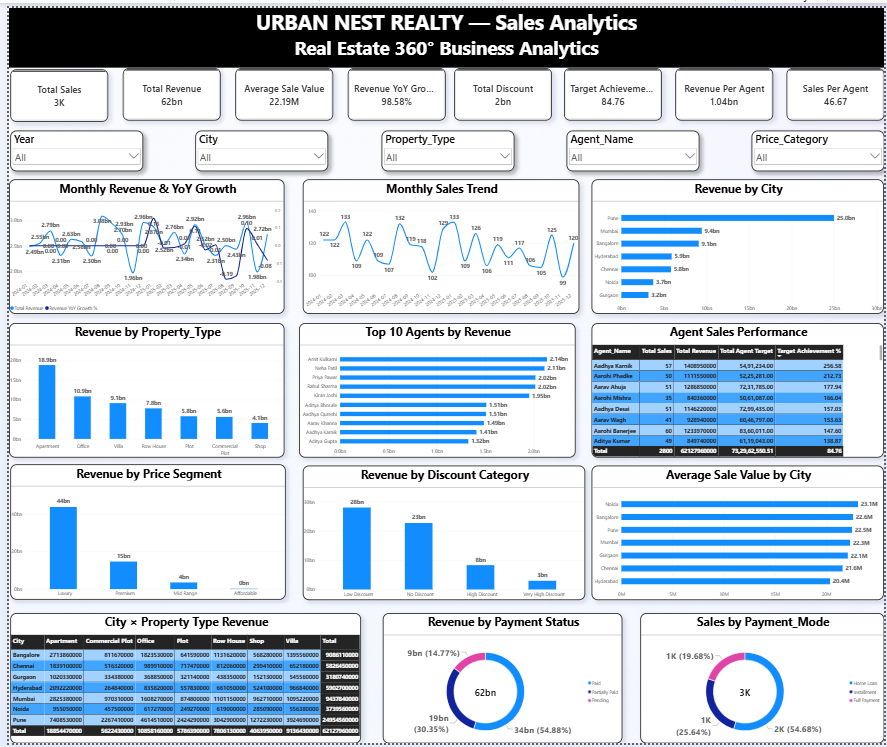

The page's visual inventory and layout, read from the dashboard file:
{"tool":"powerbi","page":{"name":"Sales_Analytics","canvas":[2500,2100],"ordinal":2},"visuals":[{"type":"cardVisual","fields":{"Data":["_Sales_Measures.Total Sales"]},"box":[4.9,175.3,280,150],"z":0},{"type":"cardVisual","fields":{"Data":["_Agent_Target_Measures.Target Achievement %"]},"box":[1587.1,170,280,150],"z":1000},{"type":"cardVisual","fields":{"Data":["_Sales_Measures.Total Revenue"]},"box":[325,170,280,150],"z":2000},{"type":"cardVisual","fields":{"Data":["_Sales_Measures.Average Sale Value"]},"box":[647.5,170,280,150],"z":3000},{"type":"cardVisual","fields":{"Data":["_Sales_Measures.Total Discount"]},"box":[1270.7,170,280,150],"z":4000},{"type":"cardVisual","fields":{"Data":["_Time_Intelligence.Revenue YoY Growth %"]},"box":[967.5,170,280,150],"z":5000},{"type":"lineChart","title":"Monthly Revenue & YoY Growth","fields":{"Category":["Dim_Date.Year_Month"],"Y":["_Sales_Measures.Total Revenue"],"Y2":["_Time_Intelligence.Revenue YoY Growth %"]},"box":[0,490,787.5,385],"z":6000},{"type":"clusteredBarChart","title":"Revenue by City","fields":{"Category":["Dim_Location.City"],"Y":["_Sales_Measures.Total Revenue"]},"box":[1665,490,835,385],"z":7000},{"type":"lineChart","title":"Monthly Sales Trend","fields":{"Category":["Dim_Date.Year_Month"],"Y":["_Sales_Measures.Total Sales"]},"box":[837.5,490,790,385],"z":8000},{"type":"slicer","fields":{"Values":["Dim_Location.City"]},"box":[533.8,350,380,116.7],"z":9000},{"type":"slicer","fields":{"Values":["Dim_Property.Price_Category"]},"box":[2120,350,380,116.7],"z":10000},{"type":"slicer","fields":{"Values":["Dim_Agent.Agent_Name"]},"box":[1591.2,350,380,116.7],"z":11000},{"type":"slicer","fields":{"Values":["Dim_Property.Property_Type"]},"box":[1062.5,350,380,116.7],"z":12000},{"type":"slicer","fields":{"Values":["Dim_Date.Year"]},"box":[5,350,380,116.7],"z":14000},{"type":"textbox","box":[6,20,280,150],"z":15000},{"type":"textbox","box":[0,0,2500,170],"z":16000},{"type":"clusteredColumnChart","title":"Revenue by Property_Type","fields":{"Category":["Dim_Property.Property_Type"],"Y":["_Sales_Measures.Total Revenue"]},"box":[0,900,787.5,385],"z":17000},{"type":"clusteredBarChart","title":"Top 10 Agents by Revenue","fields":{"Category":["Dim_Agent.Agent_Name"],"Y":["_Sales_Measures.Total Revenue"]},"box":[827.5,900,790,385],"z":18000},{"type":"pivotTable","title":"Agent Sales Performance","fields":{"Rows":["Dim_Agent.Agent_Name"],"Values":["_Sales_Measures.Total Sales","_Sales_Measures.Total Revenue","_Agent_Target_Measures.Total Agent Target","_Agent_Target_Measures.Target Achievement %"]},"box":[1665,900,835,385],"z":19000},{"type":"clusteredColumnChart","title":"Revenue by Price Segment","fields":{"Category":["Dim_Property.Price_Category"],"Y":["_Sales_Measures.Total Revenue"]},"box":[5,1305,787.5,387.5],"z":20000},{"type":"clusteredColumnChart","title":"Revenue by Discount Category","fields":{"Category":["Fact_Sales.Discount_Category"],"Y":["_Sales_Measures.Total Revenue"]},"box":[837.5,1307.5,807.5,385],"z":21000},{"type":"pivotTable","title":"City × Property Type Revenue","fields":{"Columns":["Dim_Property.Property_Type"],"Rows":["Dim_Location.City"],"Values":["_Sales_Measures.Total Revenue"]},"box":[5,1727.5,1002.5,372.5],"z":22000},{"type":"barChart","fields":{"Category":["Dim_Location.City"],"Y":["_Sales_Measures.Average Sale Value"]},"box":[1665,1307.5,835,385],"z":23000},{"type":"donutChart","title":"Sales by Payment_Mode","fields":{"Category":["Fact_Sales.Payment_Mode"],"Y":["_Sales_Measures.Total Sales"]},"box":[1802.5,1727.5,697.5,372.5],"z":24000},{"type":"donutChart","title":"Revenue by Payment Status","fields":{"Category":["Fact_Sales.Payment_Status"],"Y":["_Sales_Measures.Total Revenue"]},"box":[1067.5,1727.5,685,372.5],"z":25000},{"type":"cardVisual","fields":{"Data":["_Agent_Measures.Revenue Per Agent"]},"box":[1903.6,170,280,150],"z":26000},{"type":"cardVisual","fields":{"Data":["_Agent_Measures.Sales Per Agent"]},"box":[2220,170,280,150],"z":27000}]}

Visuals, with their boxes in screenshot pixels (x1, y1, x2, y2), scaled from the page's 2500x2100 canvas onto the 887x747 screenshot:
cardVisual - _Sales_Measures.Total Sales: locate(2, 62, 101, 116)
cardVisual - _Agent_Target_Measures.Target Achievement %: locate(563, 60, 662, 114)
cardVisual - _Sales_Measures.Total Revenue: locate(115, 60, 215, 114)
cardVisual - _Sales_Measures.Average Sale Value: locate(230, 60, 329, 114)
cardVisual - _Sales_Measures.Total Discount: locate(451, 60, 550, 114)
cardVisual - _Time_Intelligence.Revenue YoY Growth %: locate(343, 60, 443, 114)
"Monthly Revenue & YoY Growth" lineChart: locate(0, 174, 279, 311)
"Revenue by City" clusteredBarChart: locate(591, 174, 886, 311)
"Monthly Sales Trend" lineChart: locate(297, 174, 577, 311)
slicer - Dim_Location.City: locate(189, 124, 324, 166)
slicer - Dim_Property.Price_Category: locate(752, 124, 886, 166)
slicer - Dim_Agent.Agent_Name: locate(565, 124, 699, 166)
slicer - Dim_Property.Property_Type: locate(377, 124, 512, 166)
slicer - Dim_Date.Year: locate(2, 124, 137, 166)
textbox: locate(2, 7, 101, 60)
textbox: locate(0, 0, 886, 60)
"Revenue by Property_Type" clusteredColumnChart: locate(0, 320, 279, 457)
"Top 10 Agents by Revenue" clusteredBarChart: locate(294, 320, 574, 457)
"Agent Sales Performance" pivotTable: locate(591, 320, 886, 457)
"Revenue by Price Segment" clusteredColumnChart: locate(2, 464, 281, 602)
"Revenue by Discount Category" clusteredColumnChart: locate(297, 465, 584, 602)
"City × Property Type Revenue" pivotTable: locate(2, 614, 357, 746)
barChart - Dim_Location.City x _Sales_Measures.Average Sale Value: locate(591, 465, 886, 602)
"Sales by Payment_Mode" donutChart: locate(640, 614, 886, 746)
"Revenue by Payment Status" donutChart: locate(379, 614, 622, 746)
cardVisual - _Agent_Measures.Revenue Per Agent: locate(675, 60, 775, 114)
cardVisual - _Agent_Measures.Sales Per Agent: locate(788, 60, 886, 114)
